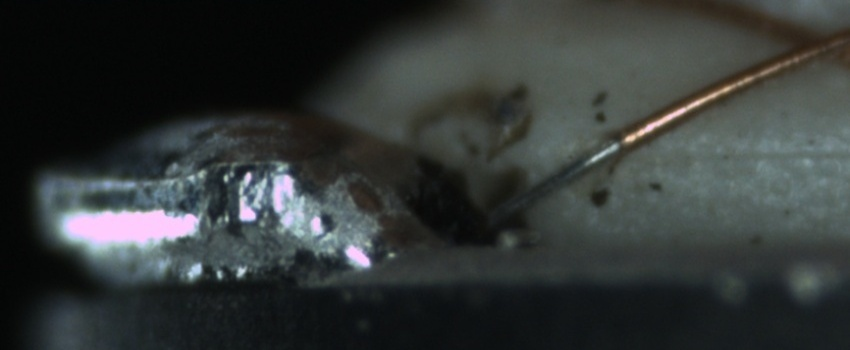CL: (766, 12, 849, 74)
DL: (657, 128, 849, 187)
TS: (470, 141, 622, 238)
TTCW: (476, 112, 663, 233)
